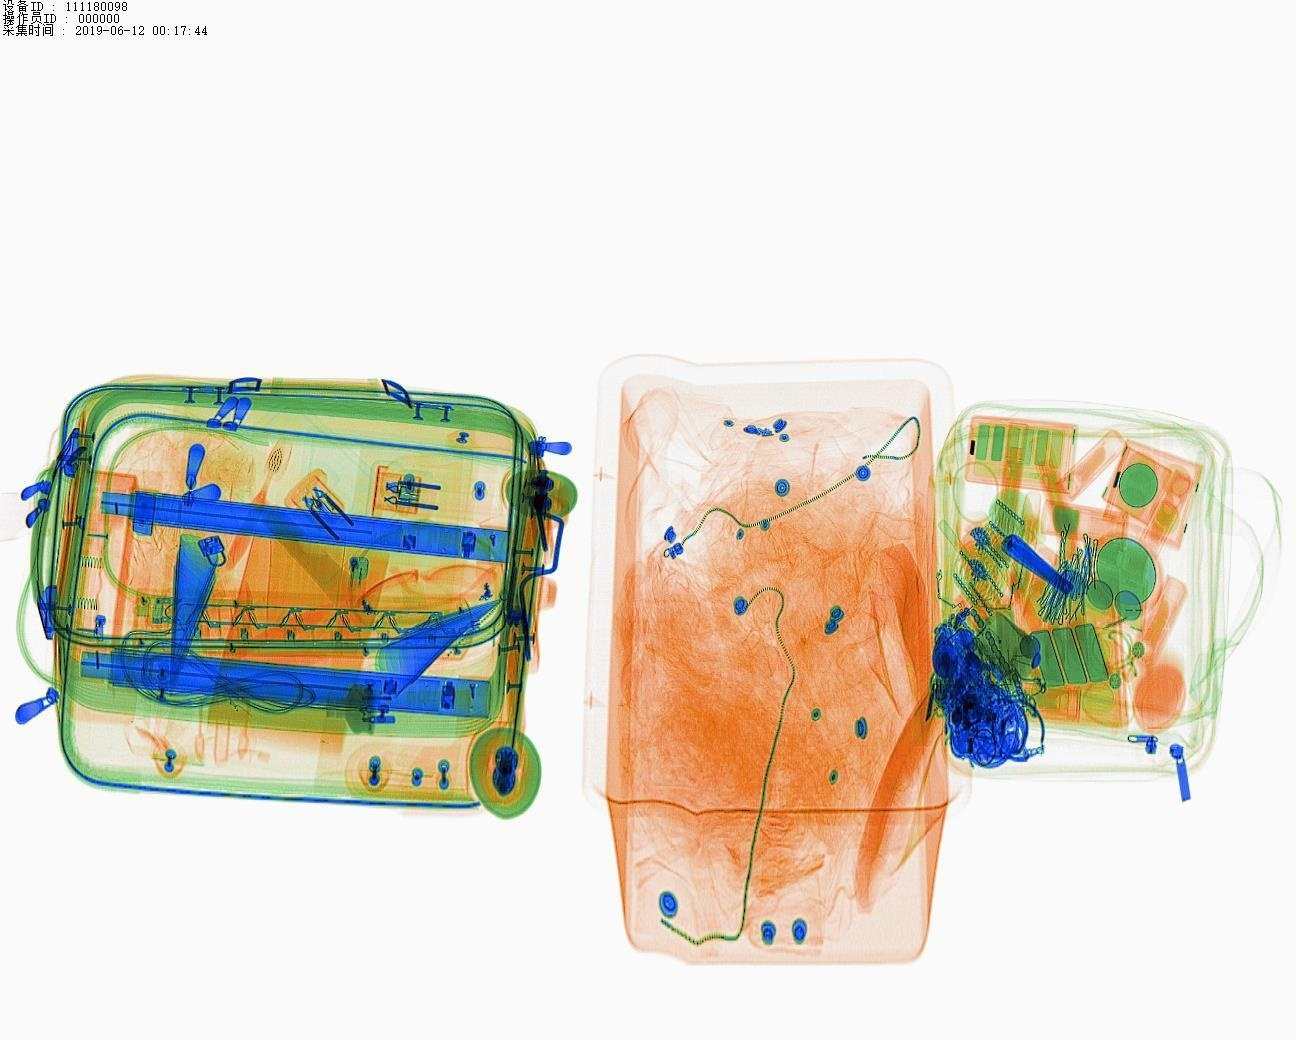NonmetallicFire: (316, 516, 376, 676)
